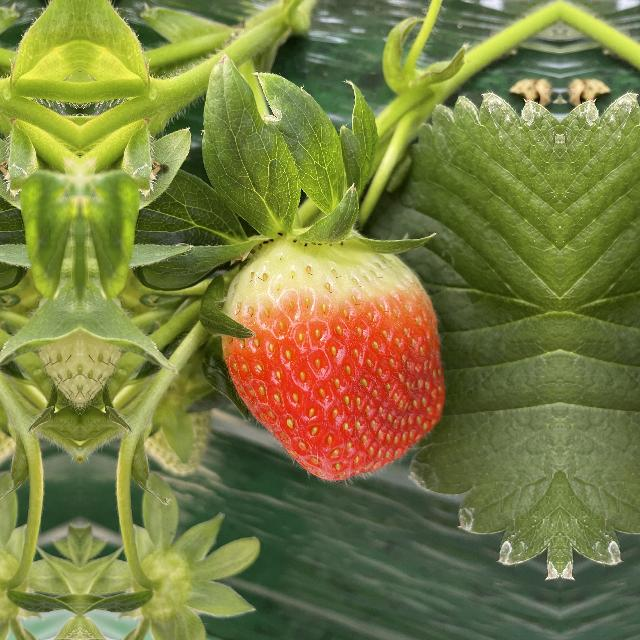Health_100: (220, 236, 448, 492)
